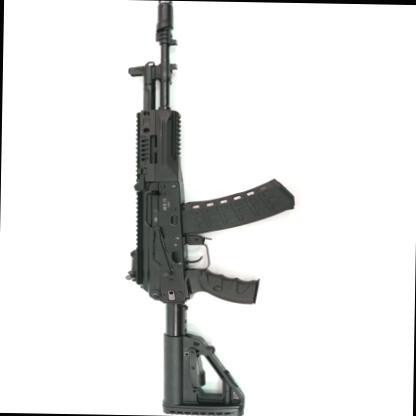rifle: (90, 0, 297, 416)
